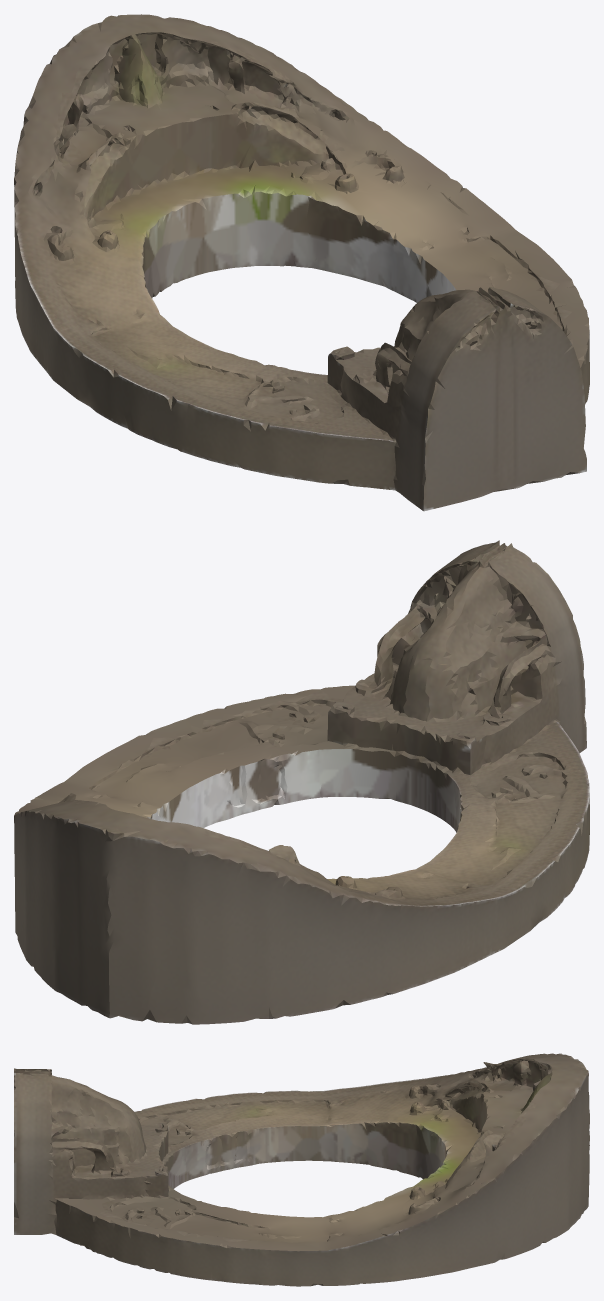
The model's file is portal_arch.glb.
3 renders of one model, top to bottom at view 1: azimuth 30°, elevation 25°; view 2: azimuth 150°, elevation 25°; view 3: azimuth 270°, elevation 25°, orthographic. The views are drawn at different scales.
Visible parts, largest first — view 1: PortalArch; view 2: PortalArch; view 3: PortalArch.
Boxes of the visible parts, x1,y1,x2,y2 form: PortalArch: [14, 14, 589, 511]; PortalArch: [14, 540, 589, 1024]; PortalArch: [14, 1053, 589, 1286].
Size of the model in its own units: 1.25 by 0.4921 by 1.89.
Materials: 1 (1 with a texture image).
